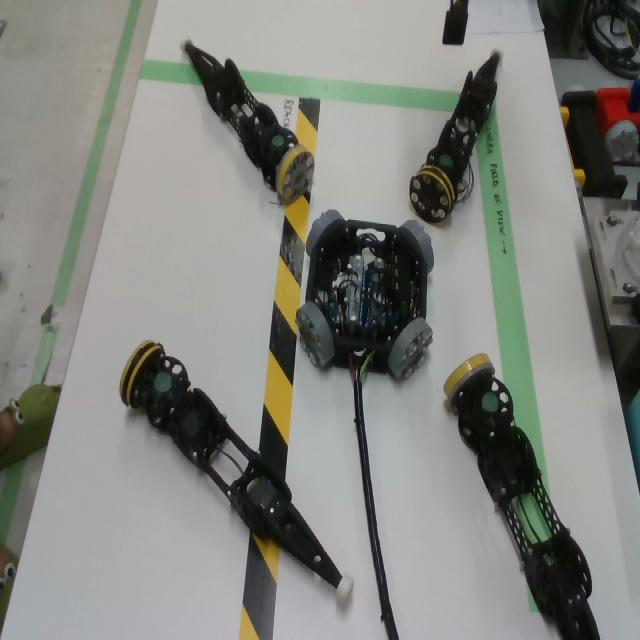body: (305, 220, 427, 372)
body_connector: (387, 317, 433, 383), (296, 301, 335, 369), (398, 220, 435, 275), (306, 209, 347, 257)
leg: (118, 340, 355, 601), (443, 353, 601, 640), (179, 39, 315, 205), (409, 47, 504, 224)
leg_connector: (119, 340, 165, 408), (409, 164, 456, 224), (443, 353, 496, 400), (275, 145, 314, 203)
leg_marker: (154, 373, 172, 393), (481, 393, 499, 413), (440, 155, 453, 167), (272, 136, 284, 147)
